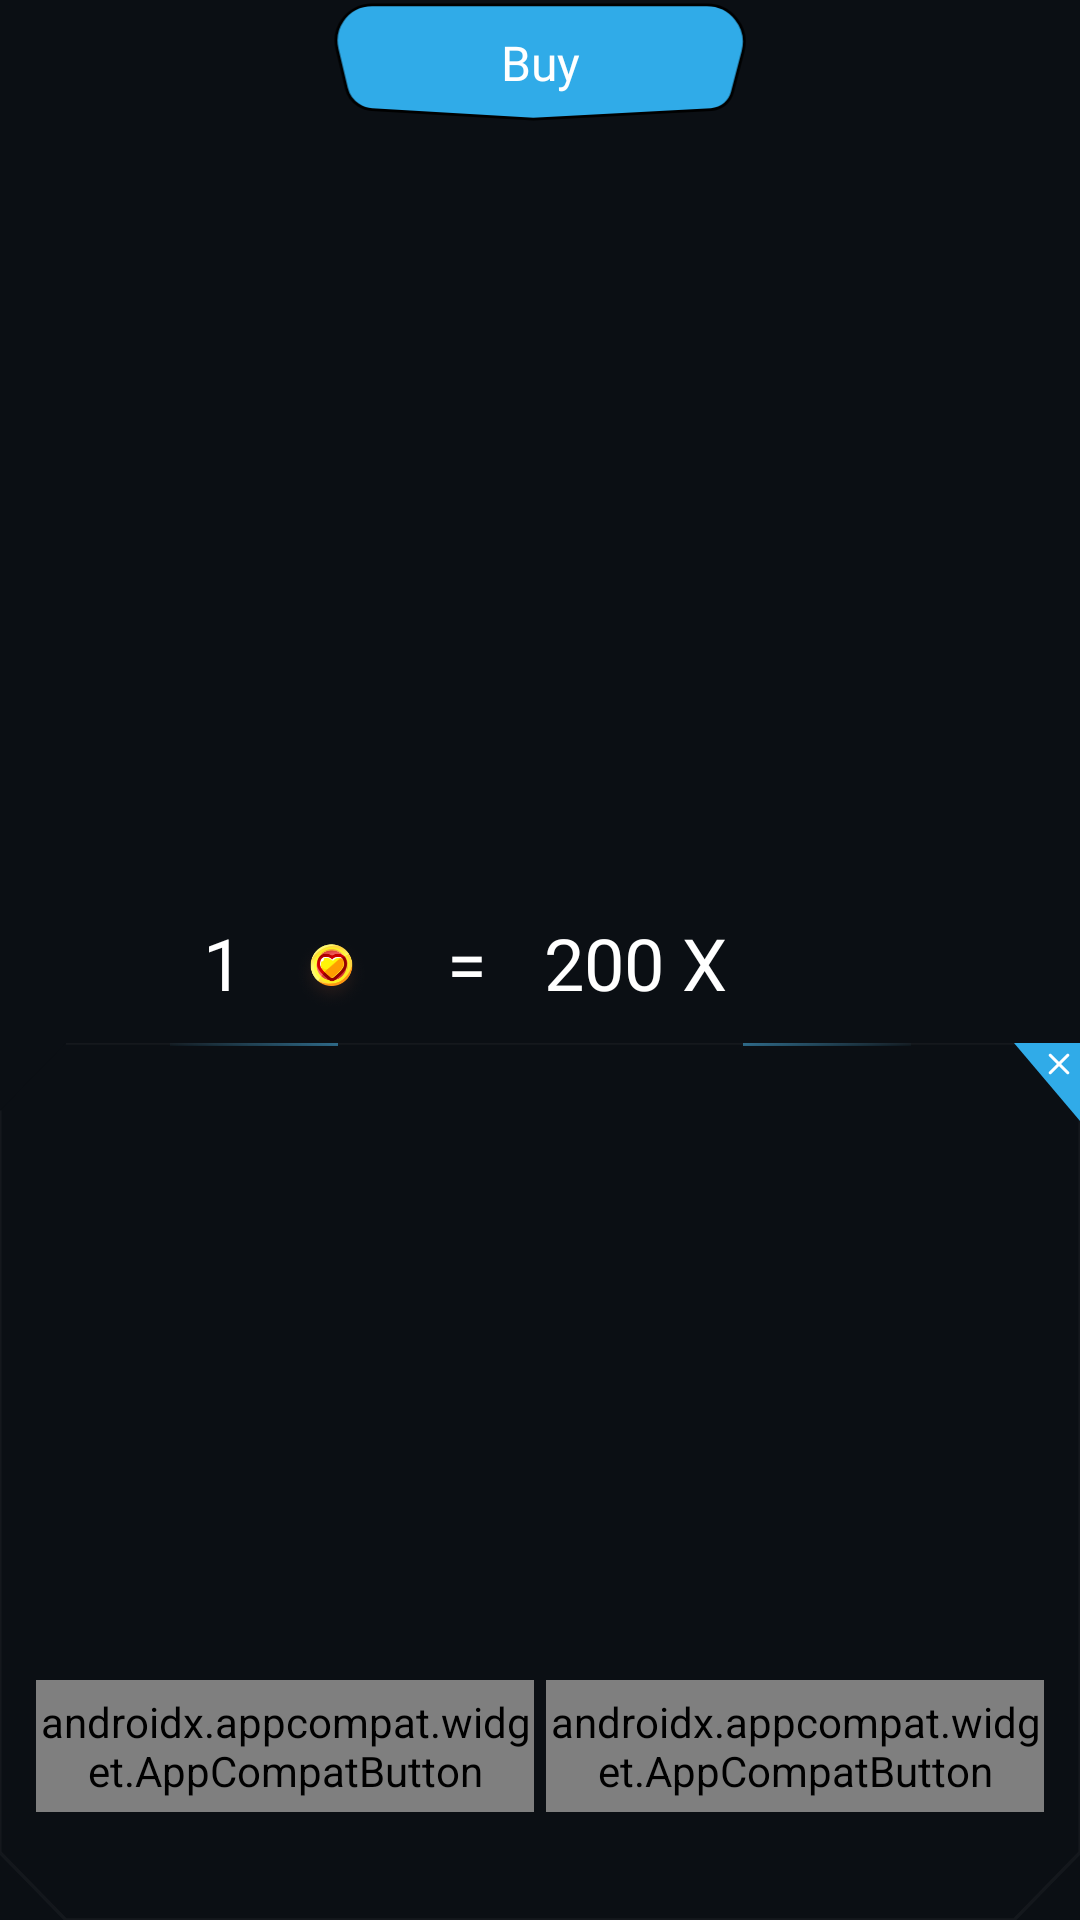

Named icons in this screenshot (1080 x 1920) and their centers, (x=x, y=y):
close: (x=1047, y=1082)
coins: (x=331, y=965)
